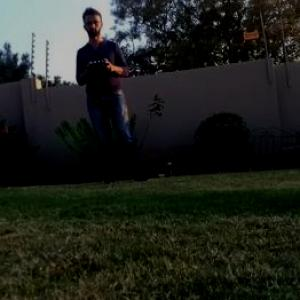follow: (74, 0, 156, 188)
